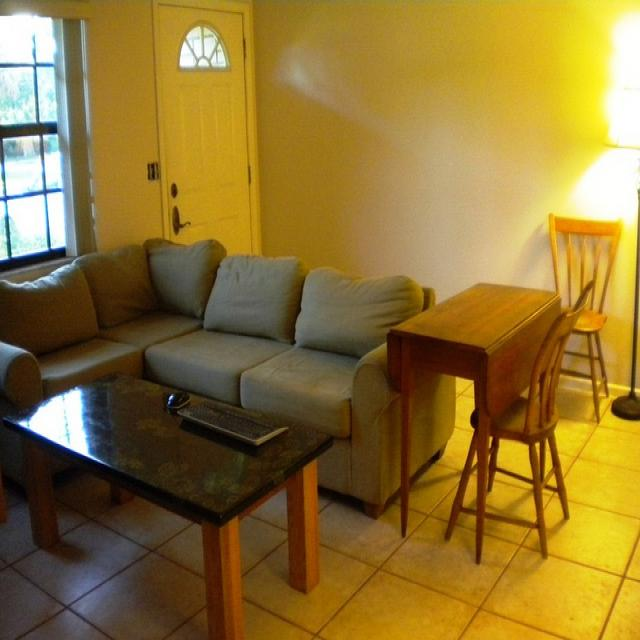chair: (443, 292, 583, 560), (548, 215, 621, 427)
dining table: (384, 276, 559, 566)
